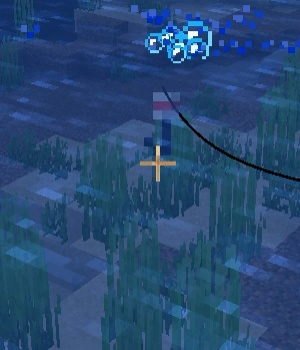down: (141, 81, 186, 157)
